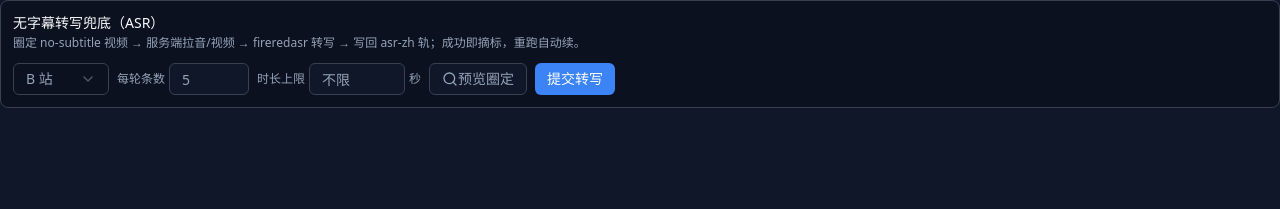
预览空态：items 空数组 → 「没有 no-subtitle 视频」
Click the button "预览圈定". click: (478, 79)
box: left=429, top=63, right=527, bottom=95
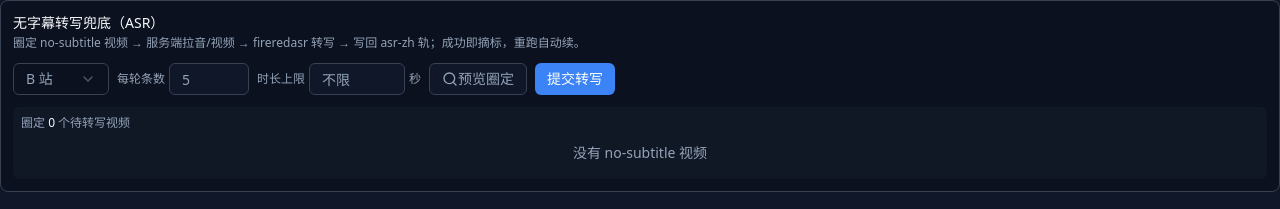
Result: the text "没有 no-subtitle 视频" is shown at left=573, top=143, right=707, bottom=162
